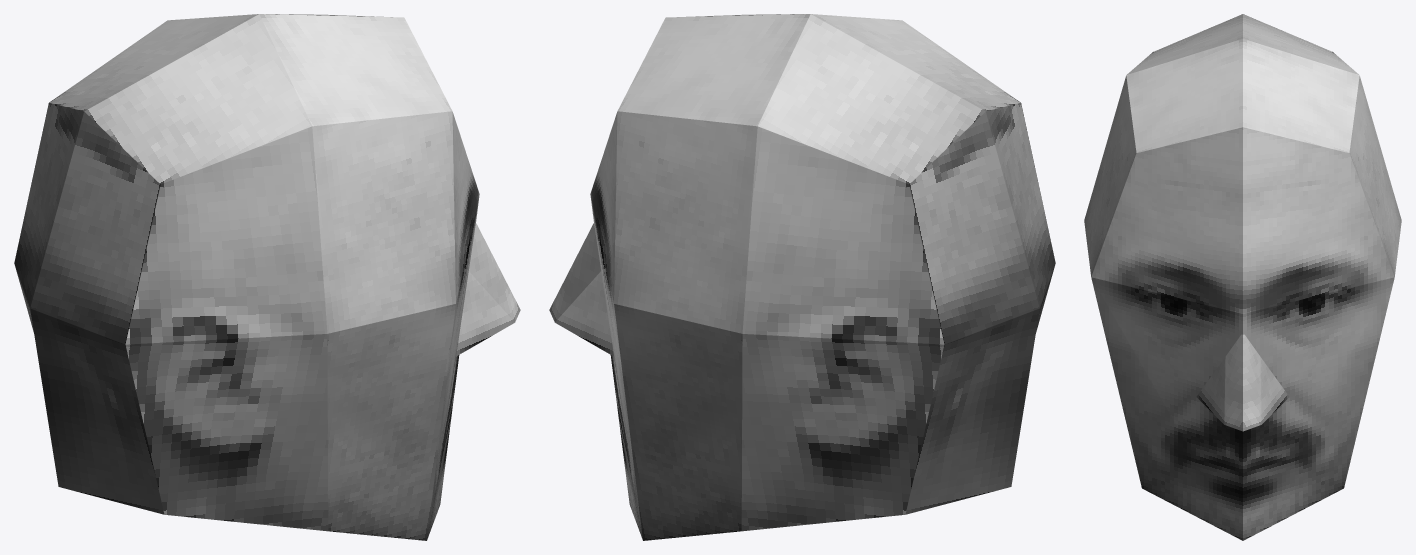
File: head.glb
3 renders of one model, left to right at view 1: azimuth 30°, elevation 25°; view 2: azimuth 150°, elevation 25°; view 3: azimuth 270°, elevation 25°, orthographic. The views are drawn at different scales.
Parts seen in each view (by area): view 1: Head; view 2: Head; view 3: Head.
Part boxes in pixels (bbox=[...]): Head: bbox=[14, 14, 520, 540]; Head: bbox=[549, 14, 1055, 540]; Head: bbox=[1084, 14, 1401, 540].
Size of the model in its own units: 2.23 by 2.32 by 1.55.
1 material, 1 textured.
